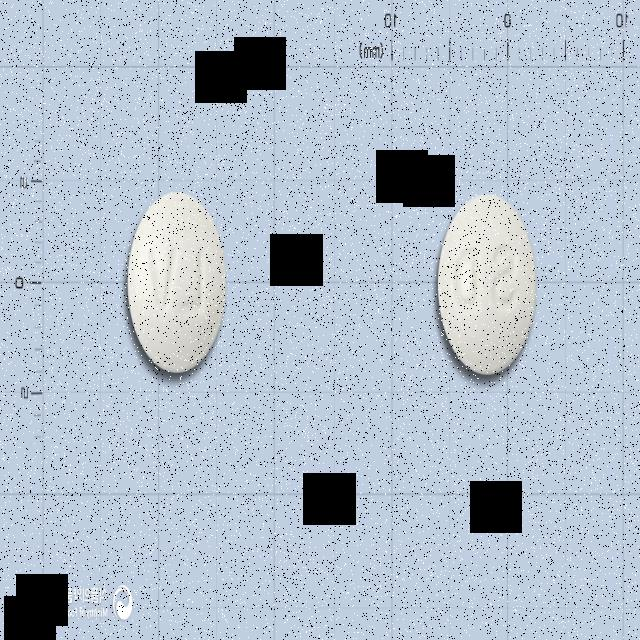Levarox: (438, 193, 536, 378), (126, 191, 225, 373)
